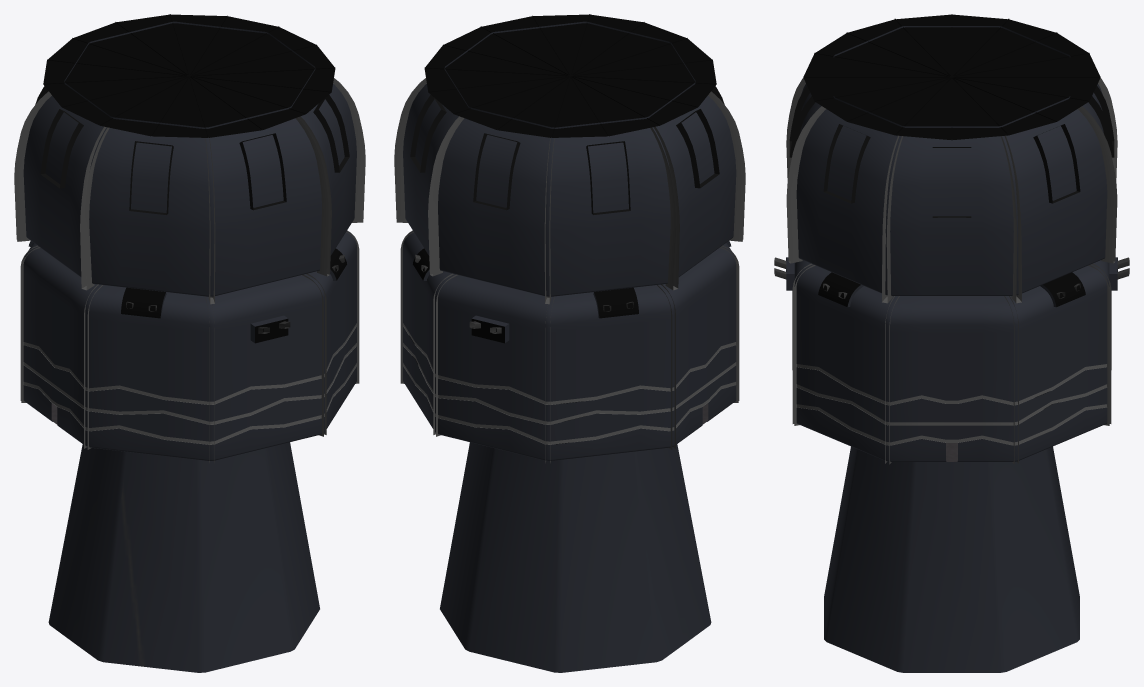
The model's file is RS_flight_room.fbx.
The picture shows the model from 3 angles, left to right: view 1: azimuth 30°, elevation 25°; view 2: azimuth 150°, elevation 25°; view 3: azimuth 270°, elevation 25°; orthographic projection.
Parts seen in each view (by area): view 1: RS_flight_room; view 2: RS_flight_room; view 3: RS_flight_room.
Part boxes in pixels (x1,y1,x2,y2): RS_flight_room: [14, 14, 365, 672]; RS_flight_room: [394, 14, 745, 672]; RS_flight_room: [774, 14, 1129, 672].
Size of the model in its own units: 3183 by 5751 by 3400.
Materials: 1 (1 with a texture image).
